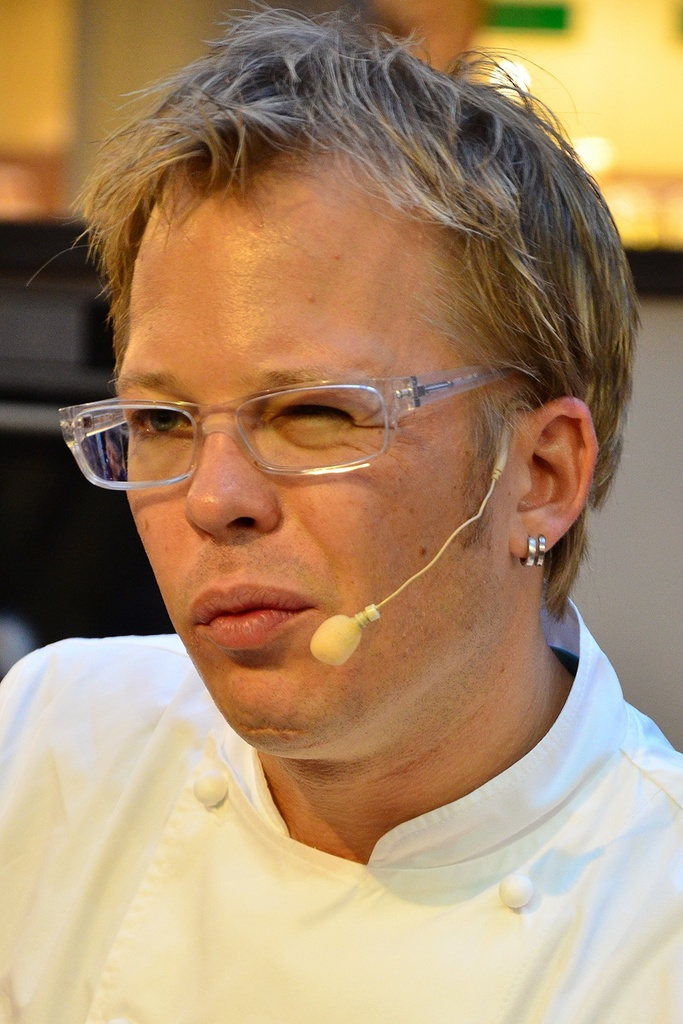Human-face: (109, 167, 524, 736)
